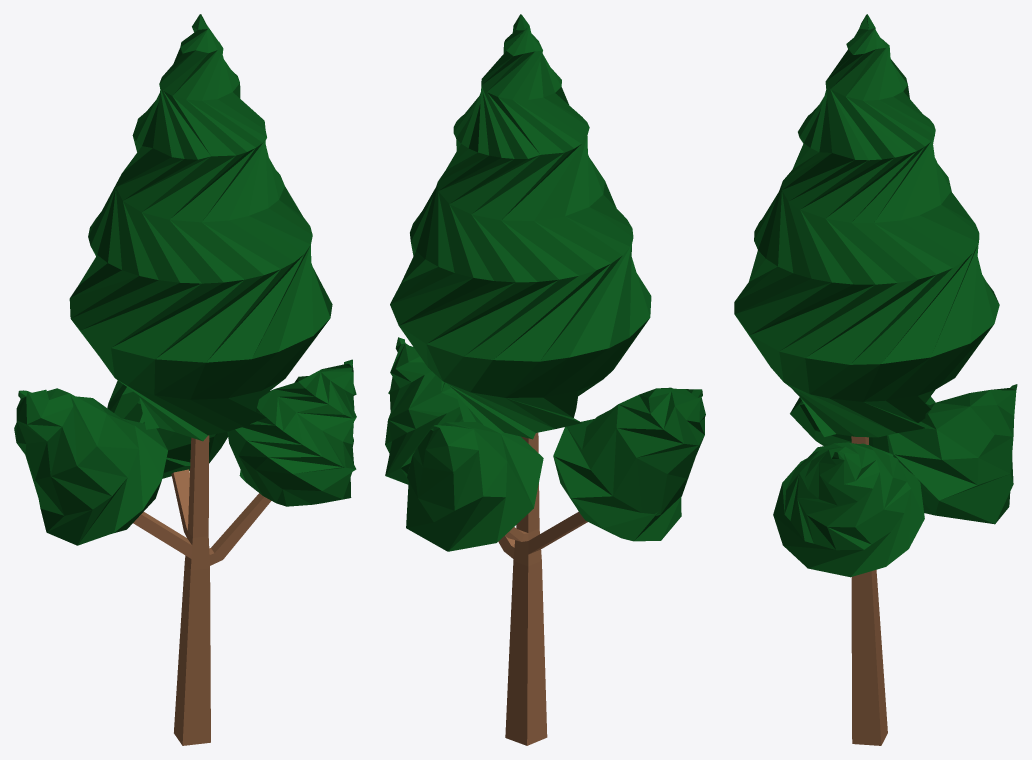
File: tree-summer-complete-40-003.glb
The picture shows the model from 3 angles, left to right: view 1: azimuth 30°, elevation 25°; view 2: azimuth 150°, elevation 25°; view 3: azimuth 270°, elevation 25°; orthographic projection.
Visible parts, largest first — view 1: Tree 40_62; view 2: Tree 40_62; view 3: Tree 40_62.
Boxes of the visible parts, box(x1,y1,x2,y2) form: Tree 40_62: box(14, 14, 356, 745); Tree 40_62: box(385, 14, 705, 745); Tree 40_62: box(734, 14, 1017, 745).
Size of the model in its own units: 1.05 by 2.25 by 0.7933.
